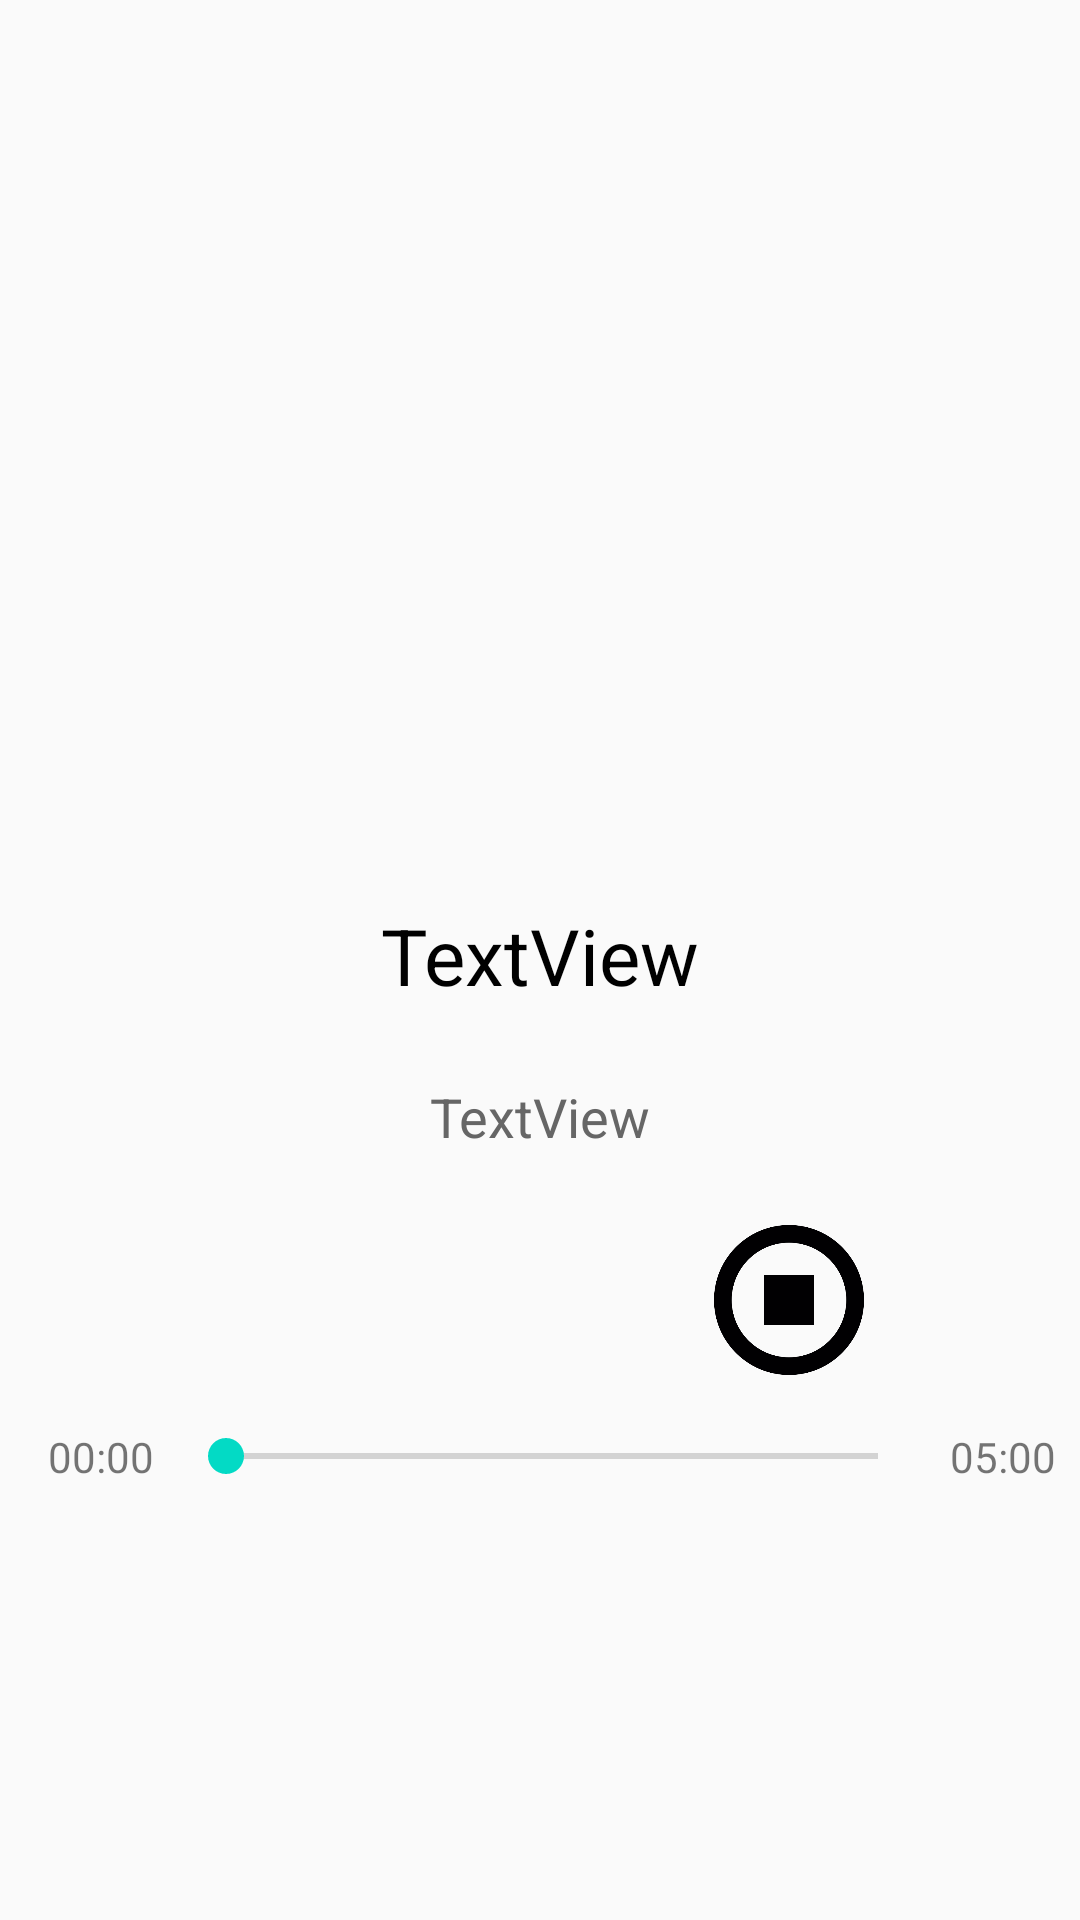

Icons on this 1080px x 1920px Android screen, each with its box as {"x1": x1, "y1": y1, "x2": x2, "y2": y2}:
stop: {"x1": 714, "y1": 1225, "x2": 864, "y2": 1375}
